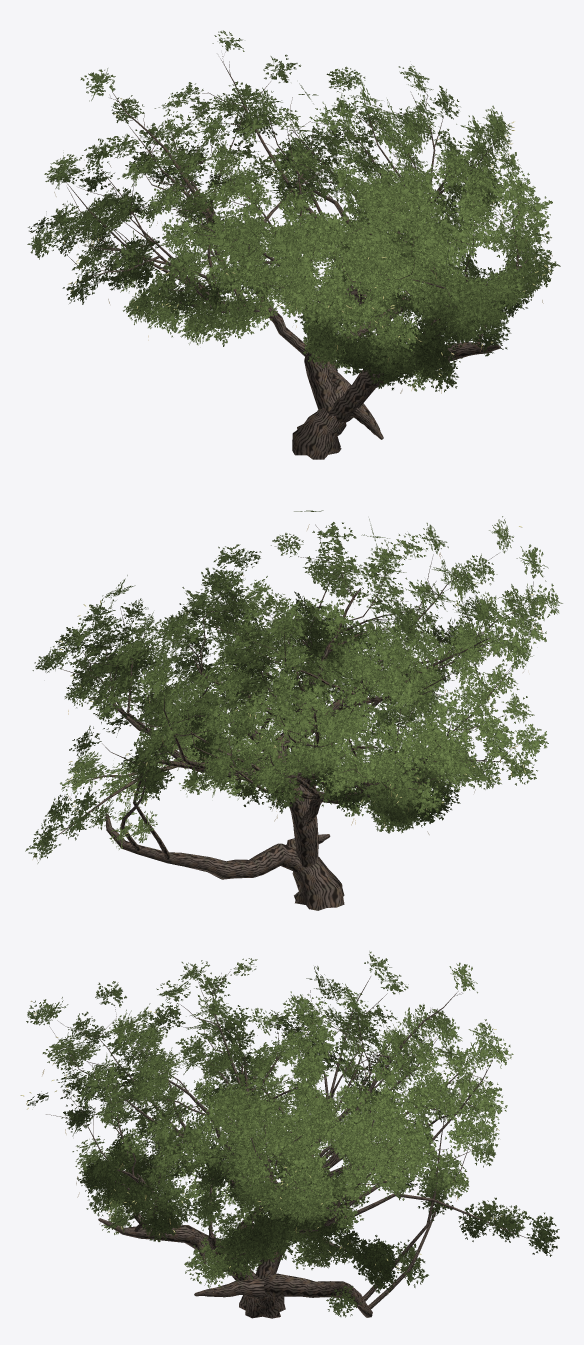
File: old-a.lod0.glb
3 views of the same model, one above another, from view 1: azimuth 30°, elevation 25°; view 2: azimuth 150°, elevation 25°; view 3: azimuth 270°, elevation 25° (orthographic). The views are drawn at different scales.
Parts seen in each view (by area): view 1: foliage, bark; view 2: foliage, bark; view 3: foliage, bark.
Boxes of the visible parts, x1=… form: foliage: x1=27, y1=30, x2=560, y2=392; bark: x1=58, y1=52, x2=532, y2=459; foliage: x1=25, y1=510, x2=562, y2=863; bark: x1=53, y1=524, x2=539, y2=910; foliage: x1=26, y1=951, x2=559, y2=1317; bark: x1=46, y1=971, x2=530, y2=1318.
Size of the model in its own units: 14.7 by 9.5 by 15.45.
Materials: 5 (3 with a texture image).
